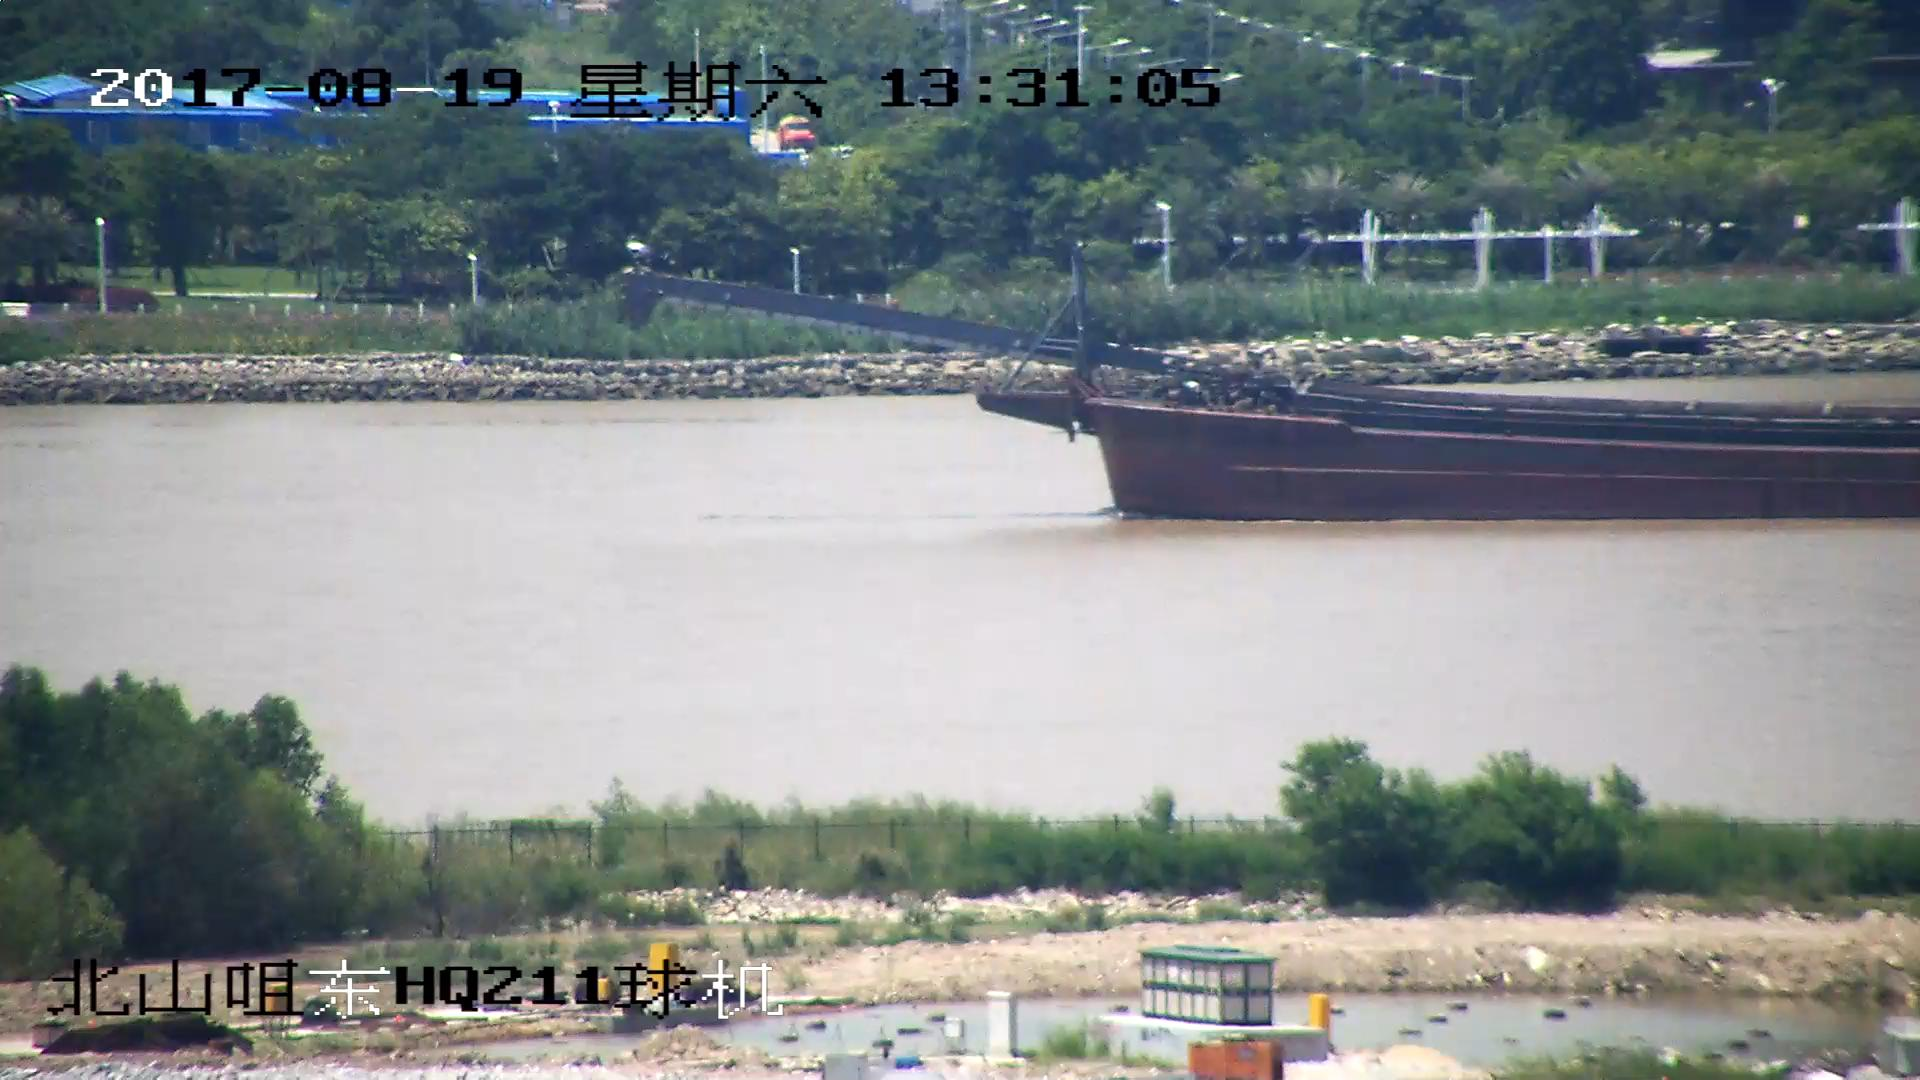bulk cargo carrier: (630, 243, 1920, 525)
